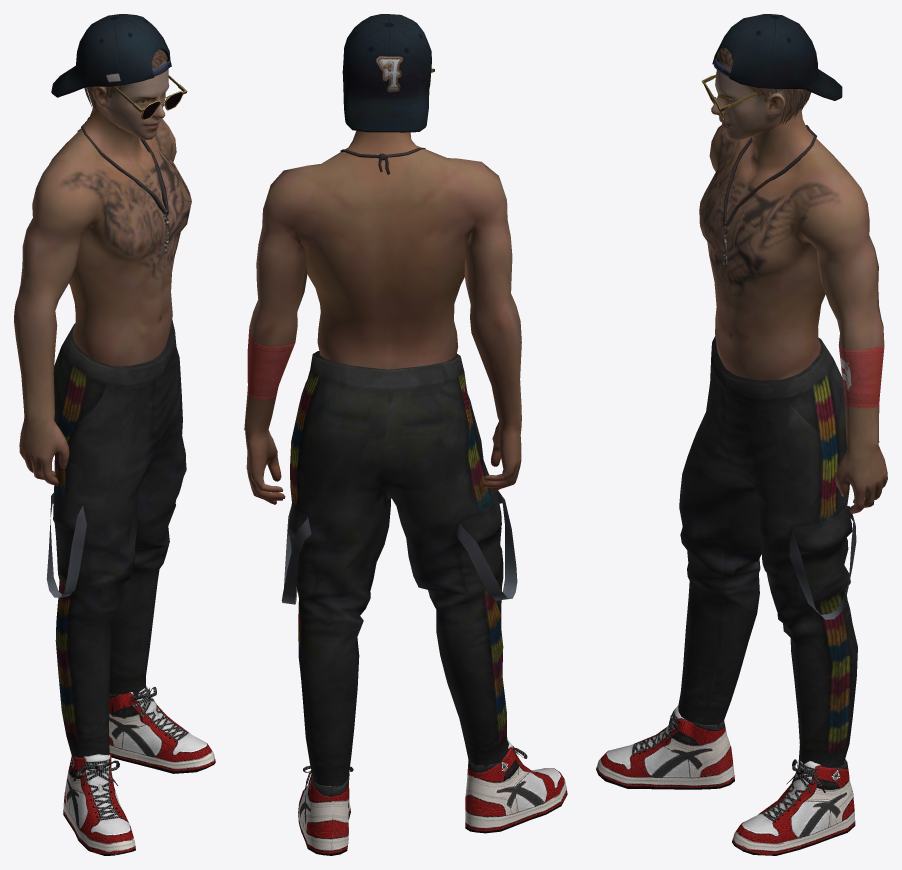
File: tatoohuman.glb
3 views of the same model, side by side, from view 1: azimuth 30°, elevation 25°; view 2: azimuth 150°, elevation 25°; view 3: azimuth 270°, elevation 25° (orthographic). The views are drawn at different scales.
Parts seen in each view (by area): view 1: Mesh_0023.rip, Mesh_0019.rip, Mesh_0021.rip, Mesh_0017.rip, Mesh_0025.rip, Mesh_0041.rip, Mesh_0016.rip; view 2: Mesh_0023.rip, Mesh_0019.rip, Mesh_0021.rip, Mesh_0017.rip, Mesh_0025.rip; view 3: Mesh_0023.rip, Mesh_0019.rip, Mesh_0021.rip, Mesh_0017.rip, Mesh_0025.rip, Mesh_0041.rip.
Boxes of the visible parts, left/top/right/bottom form: Mesh_0023.rip: left=46, top=319, right=186, bottom=757; Mesh_0019.rip: left=14, top=57, right=191, bottom=718; Mesh_0021.rip: left=63, top=686, right=215, bottom=855; Mesh_0017.rip: left=51, top=14, right=171, bottom=97; Mesh_0025.rip: left=77, top=117, right=170, bottom=252; Mesh_0041.rip: left=84, top=49, right=167, bottom=113; Mesh_0016.rip: left=113, top=75, right=187, bottom=120; Mesh_0023.rip: left=281, top=351, right=517, bottom=798; Mesh_0019.rip: left=244, top=130, right=521, bottom=799; Mesh_0021.rip: left=298, top=740, right=567, bottom=855; Mesh_0017.rip: left=342, top=14, right=431, bottom=132; Mesh_0025.rip: left=247, top=148, right=425, bottom=400; Mesh_0023.rip: left=678, top=336, right=857, bottom=767; Mesh_0019.rip: left=699, top=51, right=887, bottom=513; Mesh_0021.rip: left=596, top=706, right=855, bottom=855; Mesh_0017.rip: left=712, top=14, right=842, bottom=100; Mesh_0025.rip: left=722, top=125, right=884, bottom=408; Mesh_0041.rip: left=717, top=47, right=811, bottom=125.
Bounding box in the file's own units: 2.41 × 8.84 × 2.93.
Materials: 8 (8 with a texture image).
